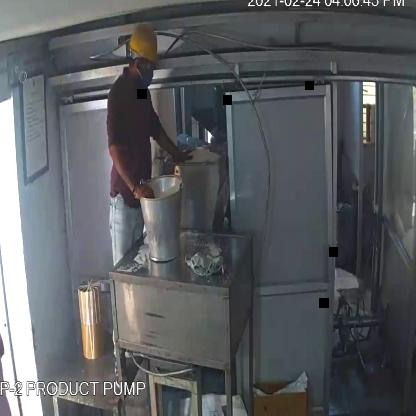helmet: (126, 21, 162, 68)
